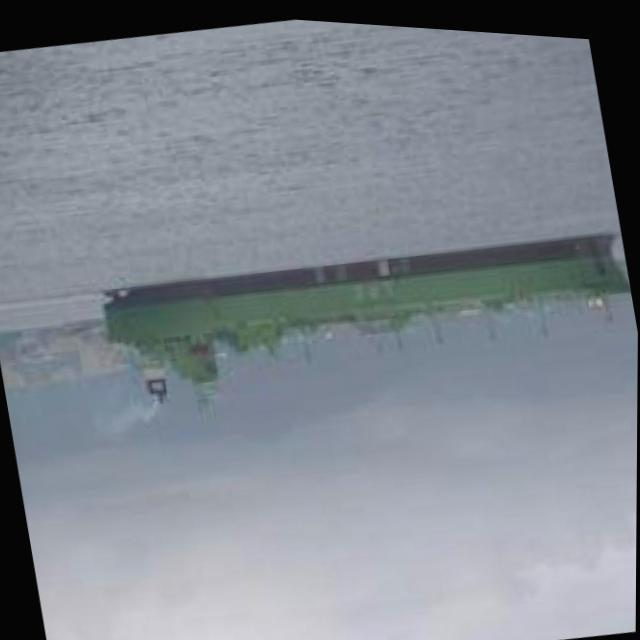ship2: (103, 224, 631, 417)
